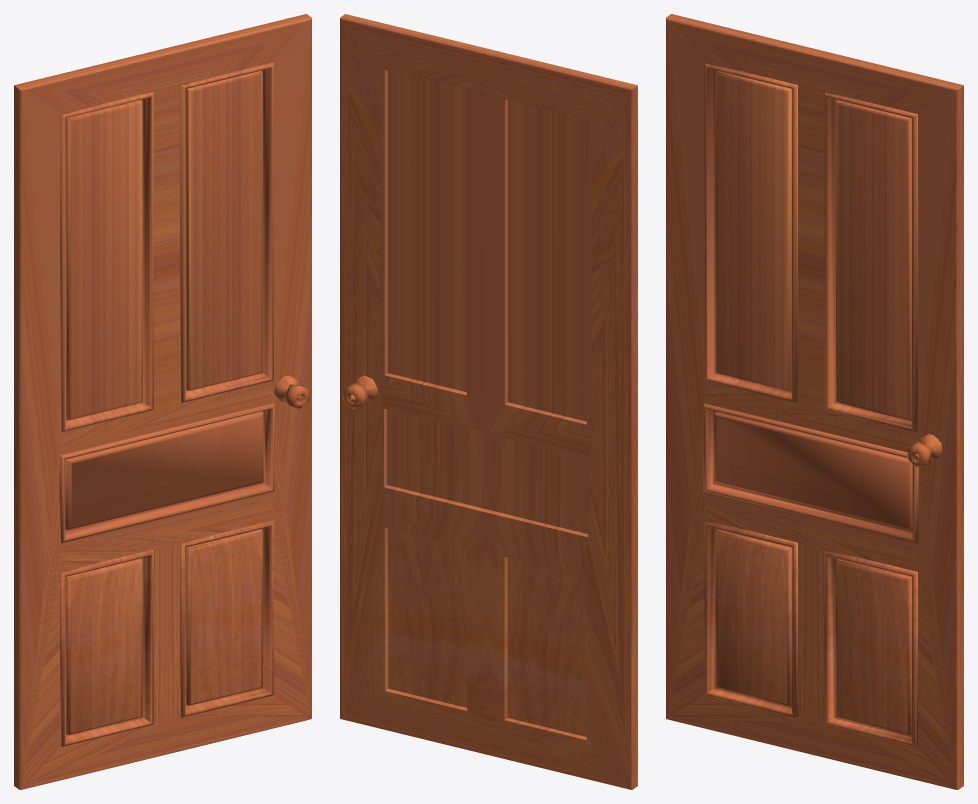
File: door.glb
3 views of the same model, side by side, from view 1: azimuth 30°, elevation 25°; view 2: azimuth 150°, elevation 25°; view 3: azimuth 330°, elevation 25° (orthographic).
Parts seen in each view (by area): view 1: door; view 2: door; view 3: door.
Boxes of the visible parts, x1,y1,x2,y2 form: door: (14,14,311,789); door: (340,14,637,789); door: (666,14,963,789).
Size of the model in its own units: 1.18 by 2.7 by 0.2662.
Materials: 3 (3 with a texture image).
